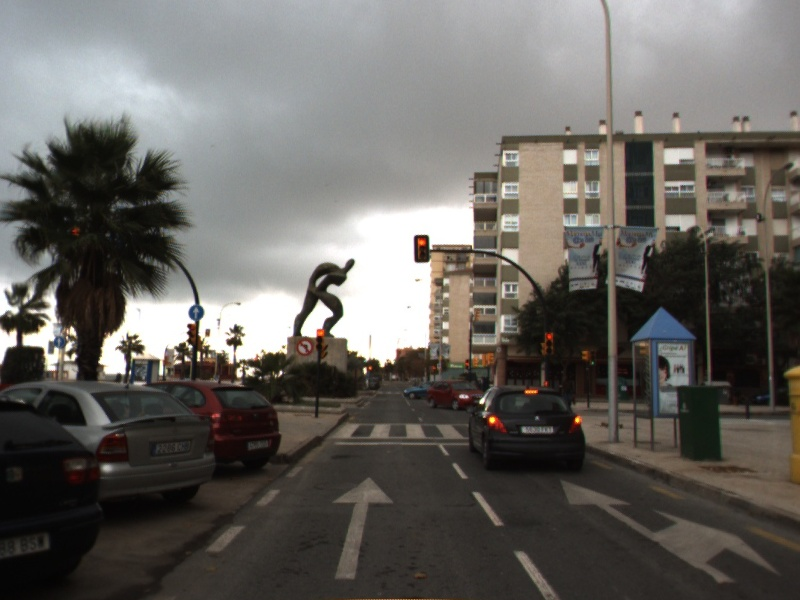STRAIGHT: (330, 475, 396, 581)
STRAIGHT_RIGHT: (558, 477, 785, 584)
